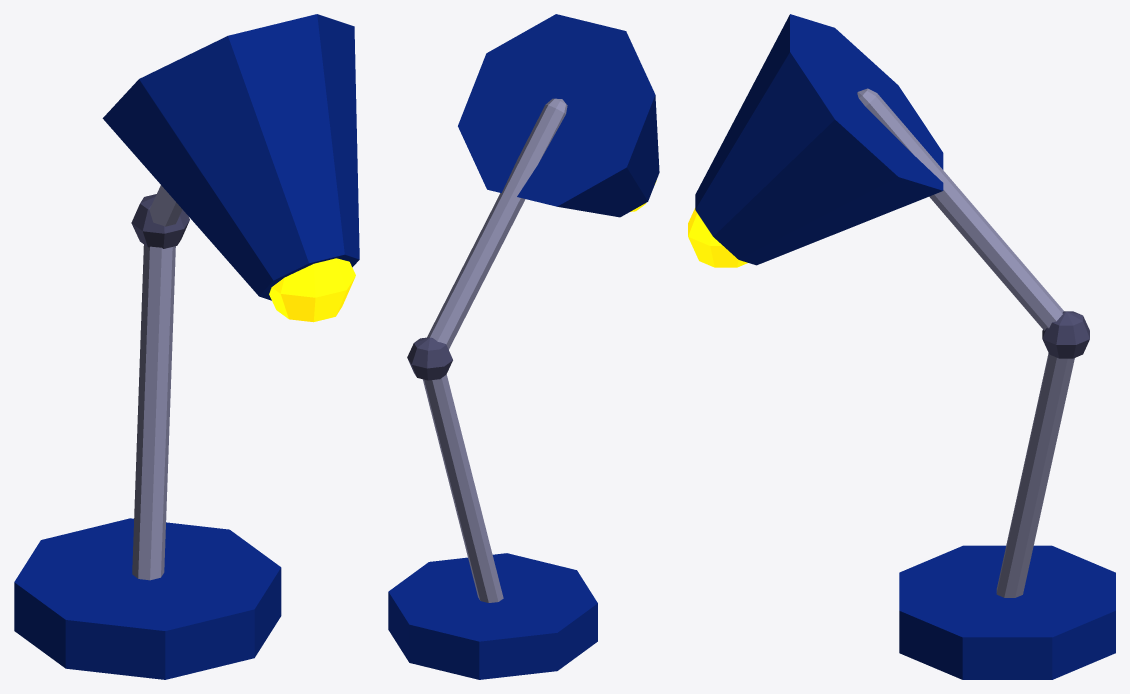
Rendered from lamp.glb.
The picture shows the model from 3 angles, left to right: view 1: azimuth 30°, elevation 25°; view 2: azimuth 150°, elevation 25°; view 3: azimuth 270°, elevation 25°; orthographic projection. The views are drawn at different scales.
Parts seen in each view (by area): view 1: root; view 2: root; view 3: root.
Boxes of the visible parts, x1=… form: root: x1=14, y1=14, x2=359, y2=679; root: x1=388, y1=14, x2=659, y2=679; root: x1=688, y1=14, x2=1115, y2=679.
Bounding box in the file's own units: 0.1848 × 0.5653 × 0.3647.
